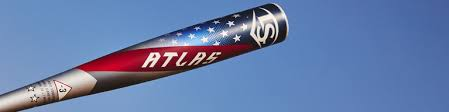baseball bat: (1, 2, 287, 112)
